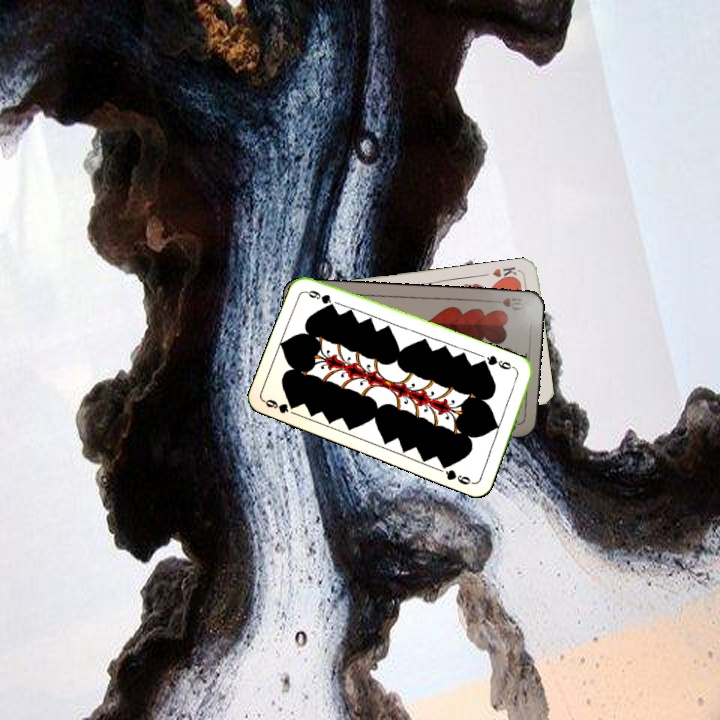G9: (261, 395, 300, 418), (479, 351, 519, 373)
H10: (487, 294, 528, 313)
HK: (489, 263, 520, 284)
